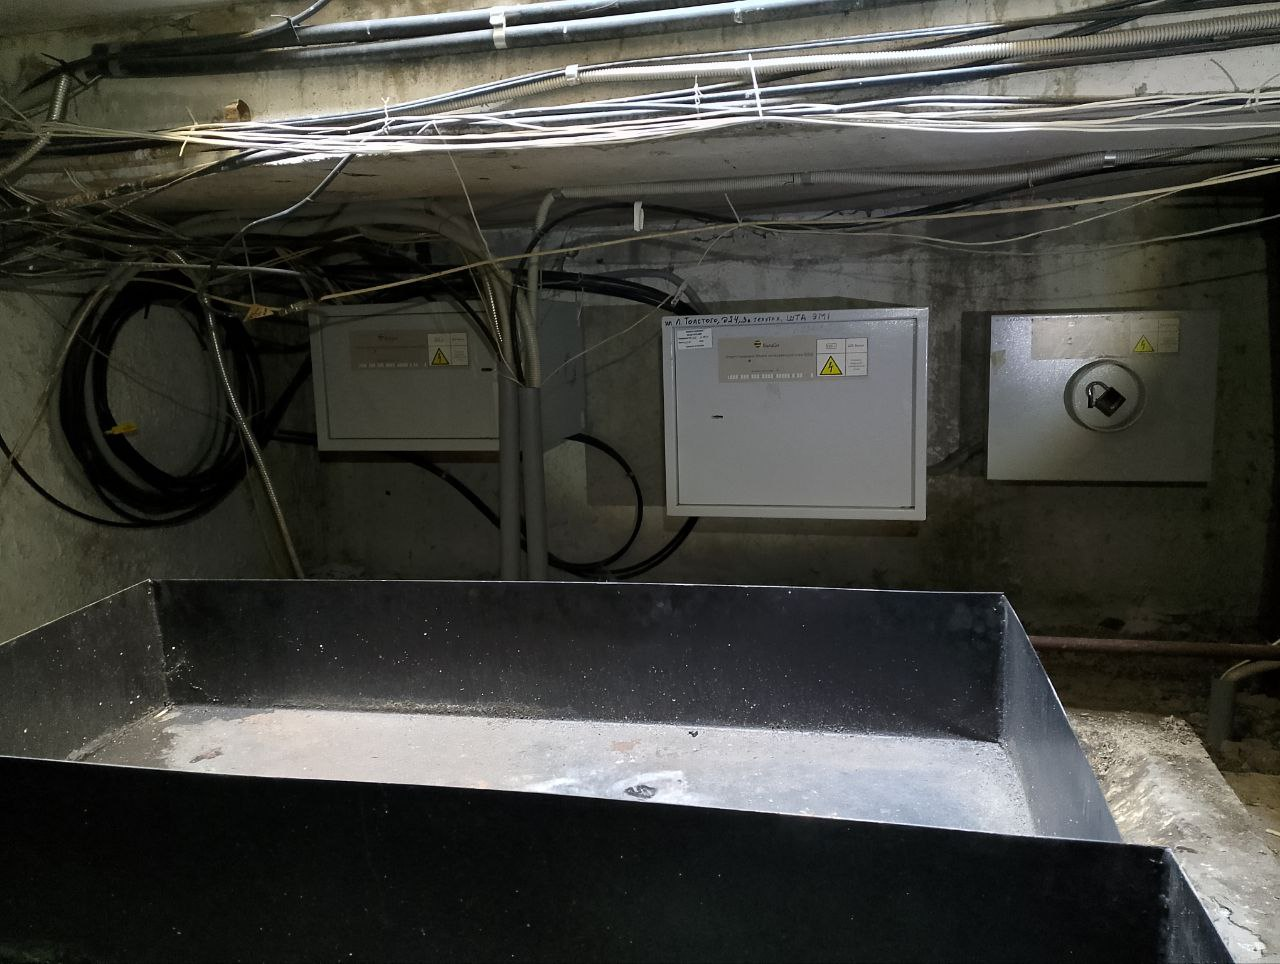shta-3: (984, 304, 1220, 485)
shta-7m: (298, 291, 593, 458)
shta-9m: (655, 300, 934, 527)
